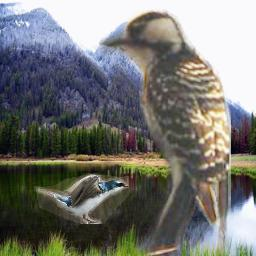Swallow: (34, 173, 129, 224)
Woodpecker: (99, 9, 231, 256)
